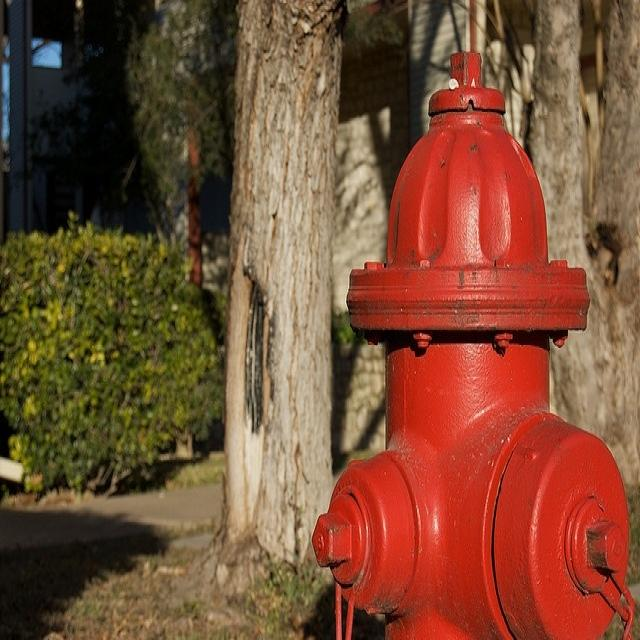fire_hydrant: (336, 25, 616, 640)
